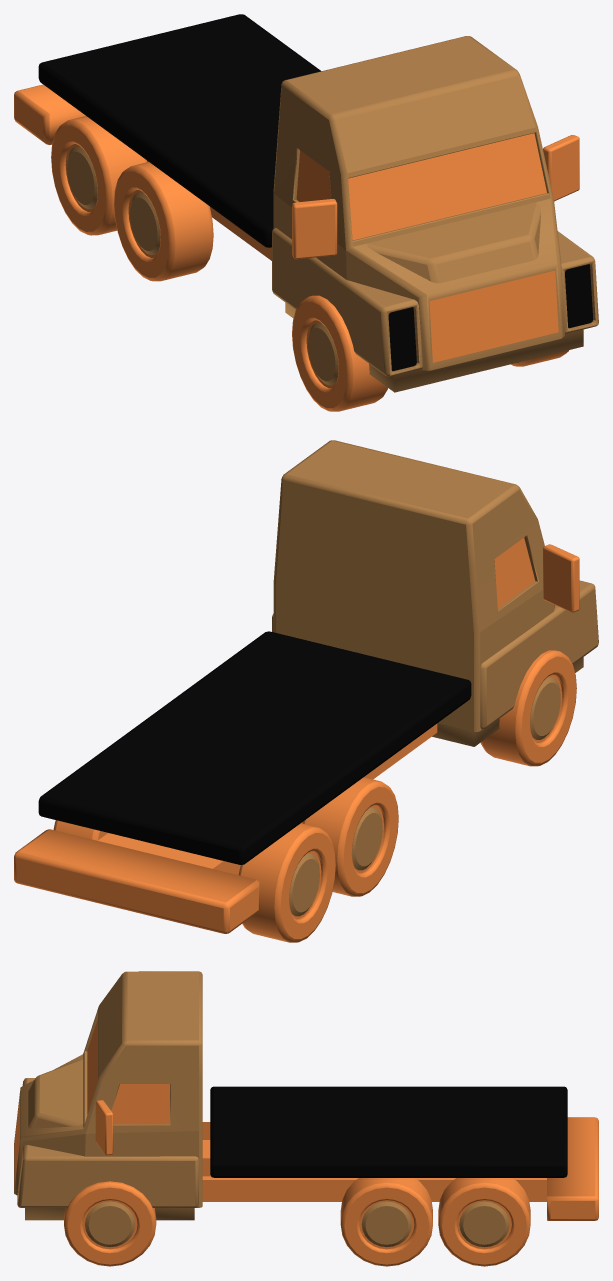
The model's file is truck-001.fbx.
The picture shows the model from 3 angles, top to bottom: view 1: azimuth 30°, elevation 25°; view 2: azimuth 150°, elevation 25°; view 3: azimuth 270°, elevation 25°; orthographic projection. The views are drawn at different scales.
Visible parts, largest first — view 1: truck-001; view 2: truck-001; view 3: truck-001.
Boxes of the visible parts, x1,y1,x2,y2 form: truck-001: [14, 14, 598, 411]; truck-001: [14, 440, 598, 942]; truck-001: [14, 971, 598, 1266].
Bounding box in the file's own units: 1.04 × 0.9763 × 2.37.
